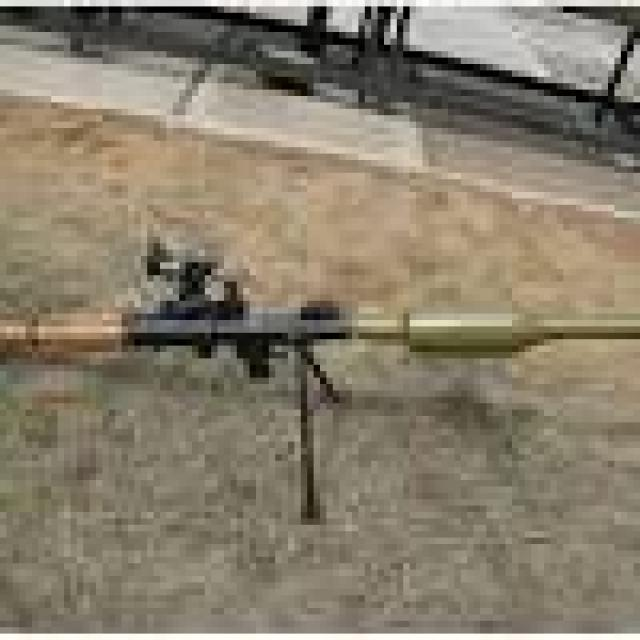Gun: (25, 227, 640, 502)
